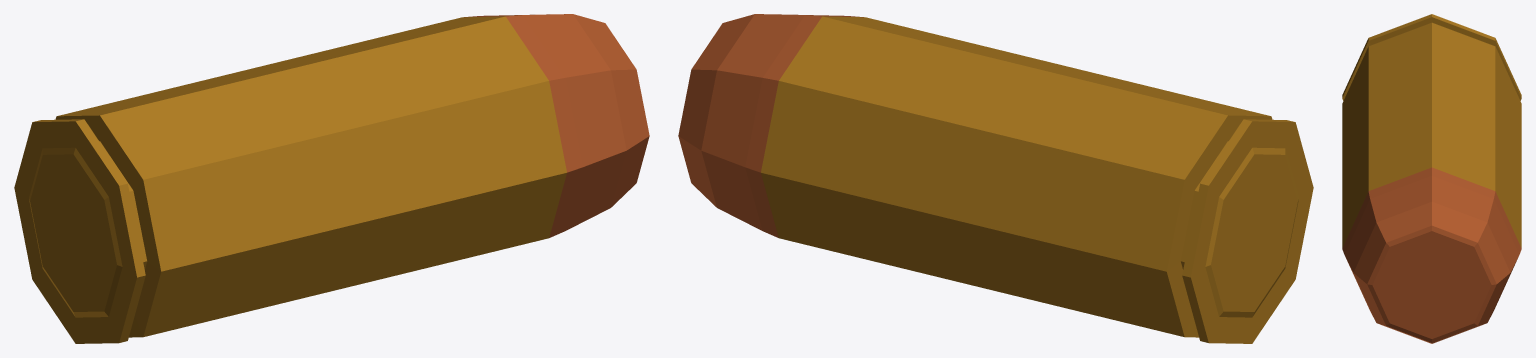
The model's file is Bala.fbx.
3 renders of one model, left to right at view 1: azimuth 30°, elevation 25°; view 2: azimuth 150°, elevation 25°; view 3: azimuth 270°, elevation 25°, orthographic. The views are drawn at different scales.
Parts seen in each view (by area): view 1: Bullet; view 2: Bullet; view 3: Bullet.
Boxes of the visible parts, x1=… form: Bullet: x1=14, y1=14, x2=649, y2=343; Bullet: x1=678, y1=14, x2=1313, y2=343; Bullet: x1=1342, y1=14, x2=1521, y2=343.
Size of the model in its own units: 153 by 61.12 by 61.12.
